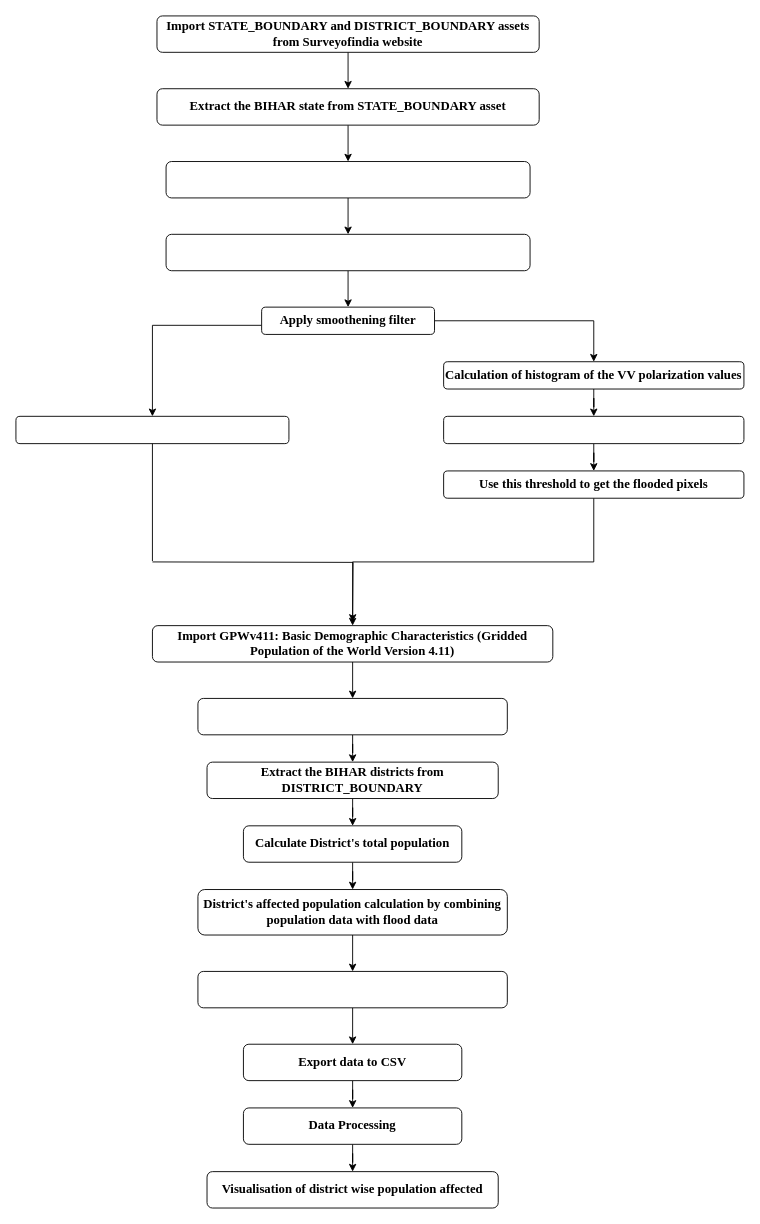
This 760x1224 diagram has some shape labels left out. Here are the shapes that lost their labels. From the top down, the box of each, then its label:
(165, 161, 530, 198): Import the satellite image collection(SAR data) and Select the VV band
(165, 233, 530, 271): Filter the before and after flood imagery
(15, 415, 289, 444): Use Difference Thresholding to get flooded pixels
(443, 415, 744, 444): Otsu Thresholding for calculating the threshold
(197, 698, 507, 735): Clip out the Bihar region
(197, 971, 507, 1008): Coloring the districts according to population affected
